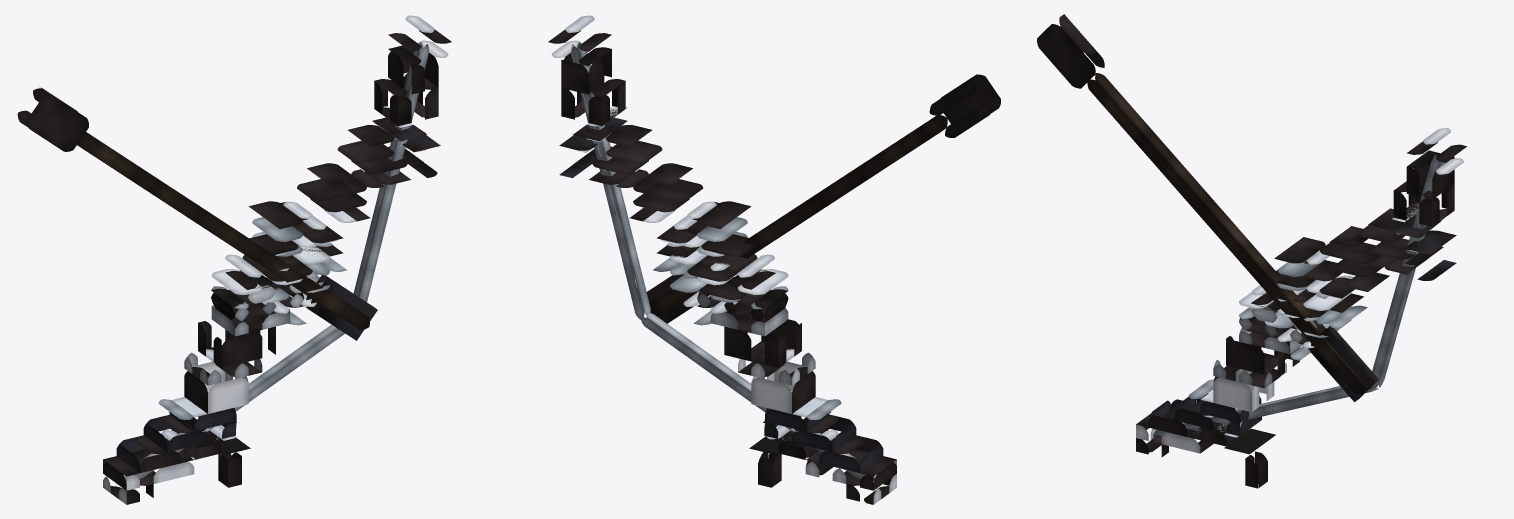
The model's file is raven_recurve_pulling_2.obj.
3 renders of one model, left to right at view 1: azimuth 30°, elevation 25°; view 2: azimuth 150°, elevation 25°; view 3: azimuth 330°, elevation 25°, orthographic. The views are drawn at different scales.
Visible parts, largest first — view 1: lit; view 2: lit; view 3: lit.
Boxes of the visible parts, x1=… form: lit: x1=17, y1=15, x2=451, y2=504; lit: x1=548, y1=15, x2=1000, y2=504; lit: x1=1037, y1=14, x2=1466, y2=488.
Size of the model in its own units: 1.09 by 1.02 by 0.125.
